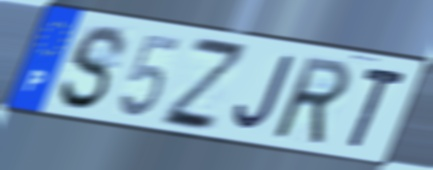5: (116, 32, 185, 120)
J: (231, 54, 297, 135)
R: (272, 54, 354, 148)
S: (55, 22, 130, 114)
T: (345, 64, 410, 152)
Z: (158, 32, 248, 133)
